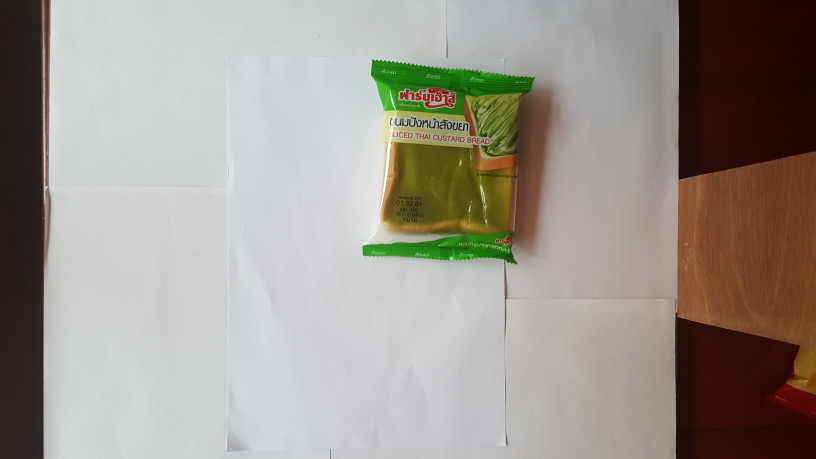farmhouse-bread-pandan: (352, 57, 542, 269)
